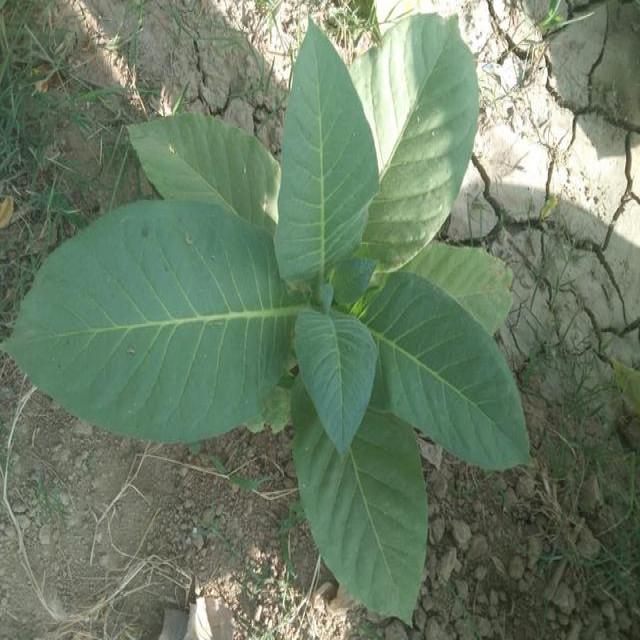crop: (31, 15, 528, 604)
